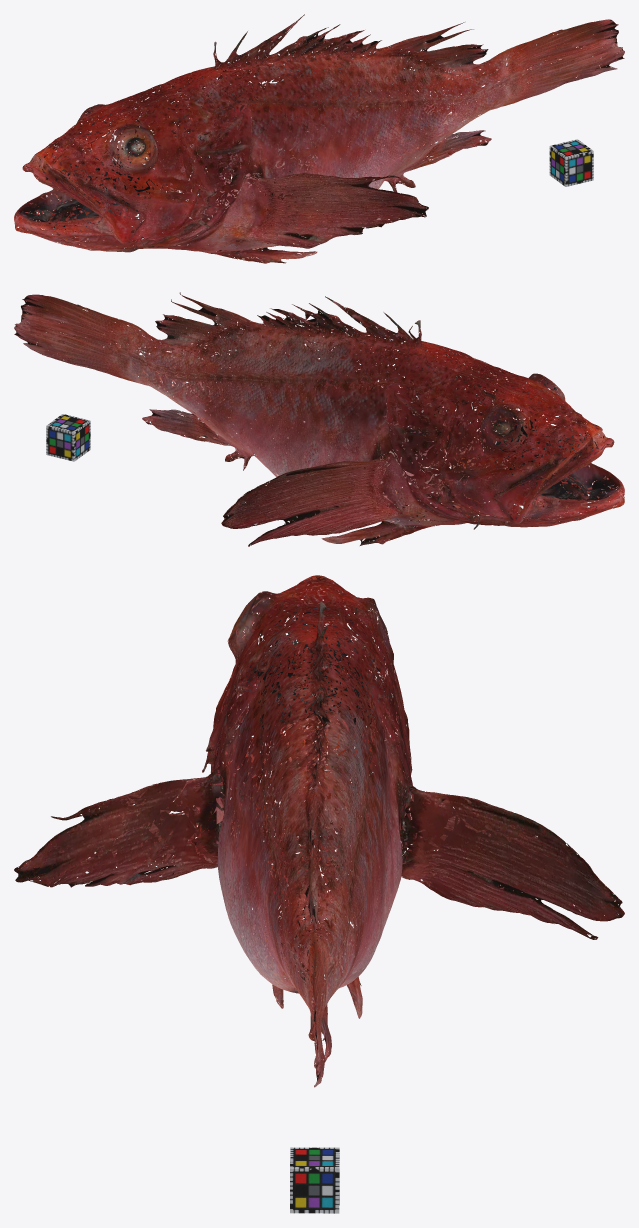
File: scan_rock_channeled.glb
The picture shows the model from 3 angles, top to bottom: view 1: azimuth 30°, elevation 25°; view 2: azimuth 150°, elevation 25°; view 3: azimuth 270°, elevation 25°; orthographic projection. The views are drawn at different scales.
Visible parts, largest first — view 1: Object_6, Object_11, Object_4; view 2: Object_6, Object_11, Object_4; view 3: Object_6, Object_11, Object_4.
Part boxes in pixels (box(x1,y1,x2,y2)): Object_6: box(14, 14, 624, 263); Object_11: box(14, 14, 624, 263); Object_4: box(549, 139, 593, 186); Object_6: box(16, 292, 624, 546); Object_11: box(14, 294, 624, 545); Object_4: box(46, 414, 90, 461); Object_6: box(14, 577, 624, 1079); Object_11: box(15, 575, 624, 1087); Object_4: box(290, 1147, 339, 1213).
Bounding box in the file's own units: 10.33 × 3.81 × 5.87.
Materials: 3 (3 with a texture image).
